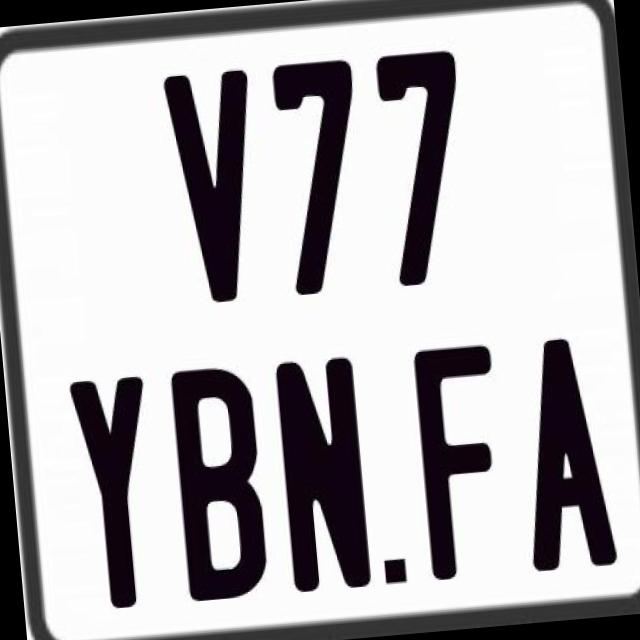7: (266, 54, 366, 300), (370, 50, 472, 286)
A: (513, 334, 617, 572)
B: (168, 364, 268, 604)
F: (410, 342, 509, 587)
N: (270, 351, 368, 596)
V: (159, 66, 265, 304)
Y: (69, 370, 168, 610)
